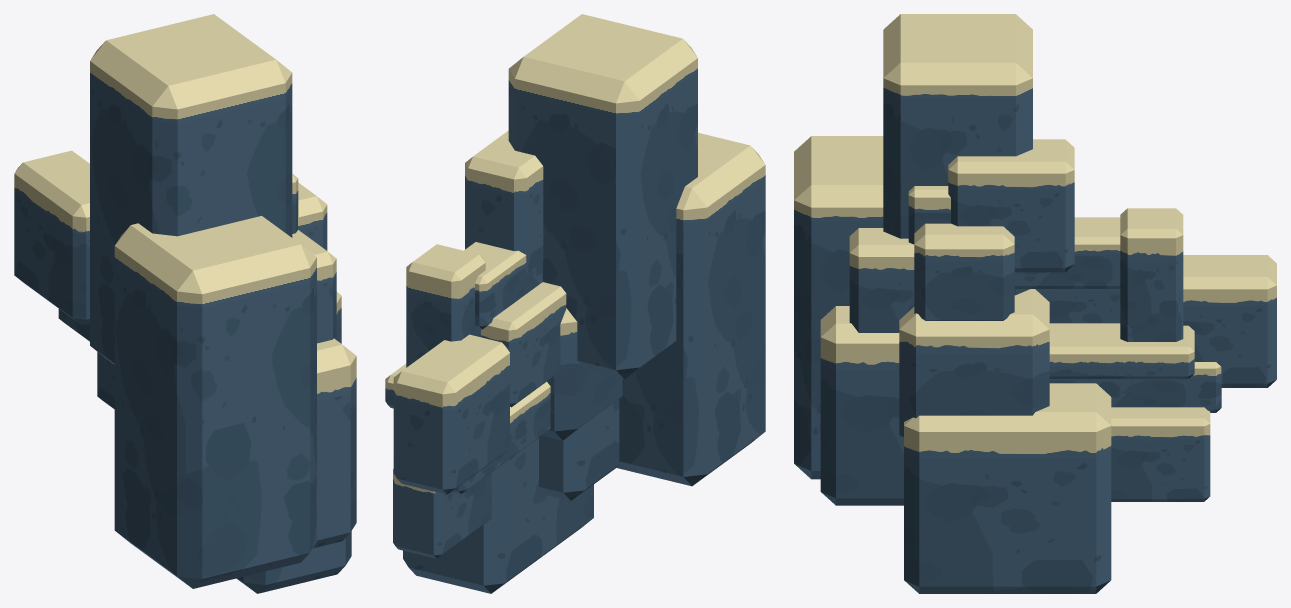
Rendered from M_modul_04_env.fbx.
The picture shows the model from 3 angles, left to right: view 1: azimuth 30°, elevation 25°; view 2: azimuth 150°, elevation 25°; view 3: azimuth 270°, elevation 25°; orthographic projection. The views are drawn at different scales.
Visible parts, largest first — view 1: Cube.017, Cube.004, Cube.008, Cube.016, Cube.015, Cube.006, Cube.009, Cube.012; view 2: Cube.004, Cube.017, Cube.008, Cube.015, Cube.005, Cube.002, Cube.010, Cube.012, Cube.016, Cube.011, Cube.014, Cube.013; view 3: Cube.015, Cube.004, Cube.017, Cube.011, Cube.016, Cube.005, Cube.008, Cube.009, Cube.012, Cube.002, Cube.007, Cube.006 (+4 smaller).
Boxes of the visible parts, x1,y1,x2,y2 form: Cube.017: [114, 216, 316, 588]; Cube.004: [90, 14, 292, 364]; Cube.008: [14, 150, 89, 324]; Cube.016: [313, 338, 356, 548]; Cube.015: [236, 531, 351, 593]; Cube.006: [292, 230, 336, 343]; Cube.009: [298, 182, 327, 250]; Cube.012: [97, 352, 114, 409]; Cube.004: [508, 14, 697, 379]; Cube.017: [616, 132, 765, 486]; Cube.008: [393, 334, 509, 494]; Cube.015: [403, 438, 593, 593]; Cube.005: [465, 130, 543, 273]; Cube.002: [406, 244, 485, 367]; Cube.010: [481, 282, 566, 407]; Cube.012: [393, 469, 491, 558]; Cube.016: [539, 399, 620, 500]; Cube.011: [542, 308, 622, 440]; Cube.014: [464, 242, 542, 329]; Cube.013: [452, 381, 550, 494]; Cube.015: [904, 383, 1111, 593]; Cube.004: [883, 14, 1032, 295]; Cube.017: [794, 136, 883, 479]; Cube.011: [899, 289, 1049, 438]; Cube.016: [820, 306, 903, 505]; Cube.005: [948, 139, 1074, 272]; Cube.008: [1183, 255, 1276, 387]; Cube.009: [914, 223, 1014, 320]; Cube.012: [1111, 407, 1210, 501]; Cube.002: [1120, 208, 1183, 341]; Cube.007: [1049, 323, 1194, 378]; Cube.006: [849, 228, 914, 332].
Size of the model in its own units: 27.93 by 61.8 by 54.18.
